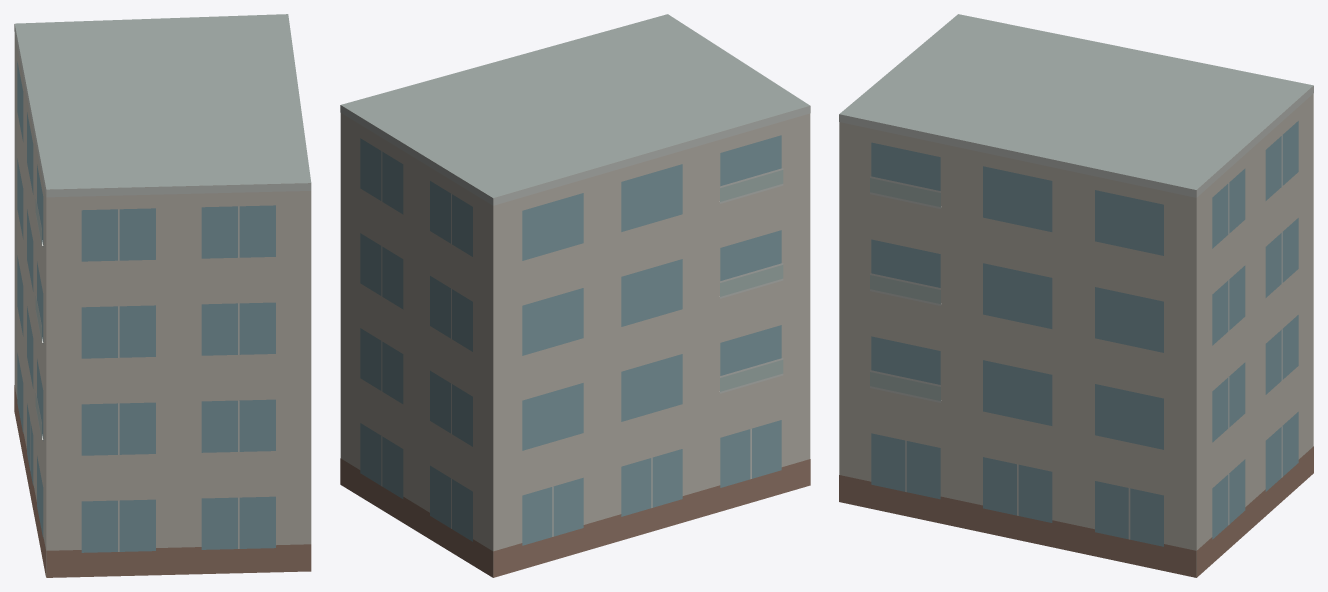
Rendered from survey-upis-32530760.glb.
The picture shows the model from 3 angles, left to right: view 1: azimuth 30°, elevation 25°; view 2: azimuth 150°, elevation 25°; view 3: azimuth 270°, elevation 25°; orthographic projection. The views are drawn at different scales.
Parts seen in each view (by area): view 1: survey-upis-32530760.tmp; view 2: survey-upis-32530760.tmp; view 3: survey-upis-32530760.tmp.
Boxes of the visible parts, x1,y1,x2,y2 form: survey-upis-32530760.tmp: [14, 14, 311, 577]; survey-upis-32530760.tmp: [340, 14, 810, 577]; survey-upis-32530760.tmp: [839, 14, 1313, 577].
Bounding box in the file's own units: 11.79 × 12.1 × 13.43.
